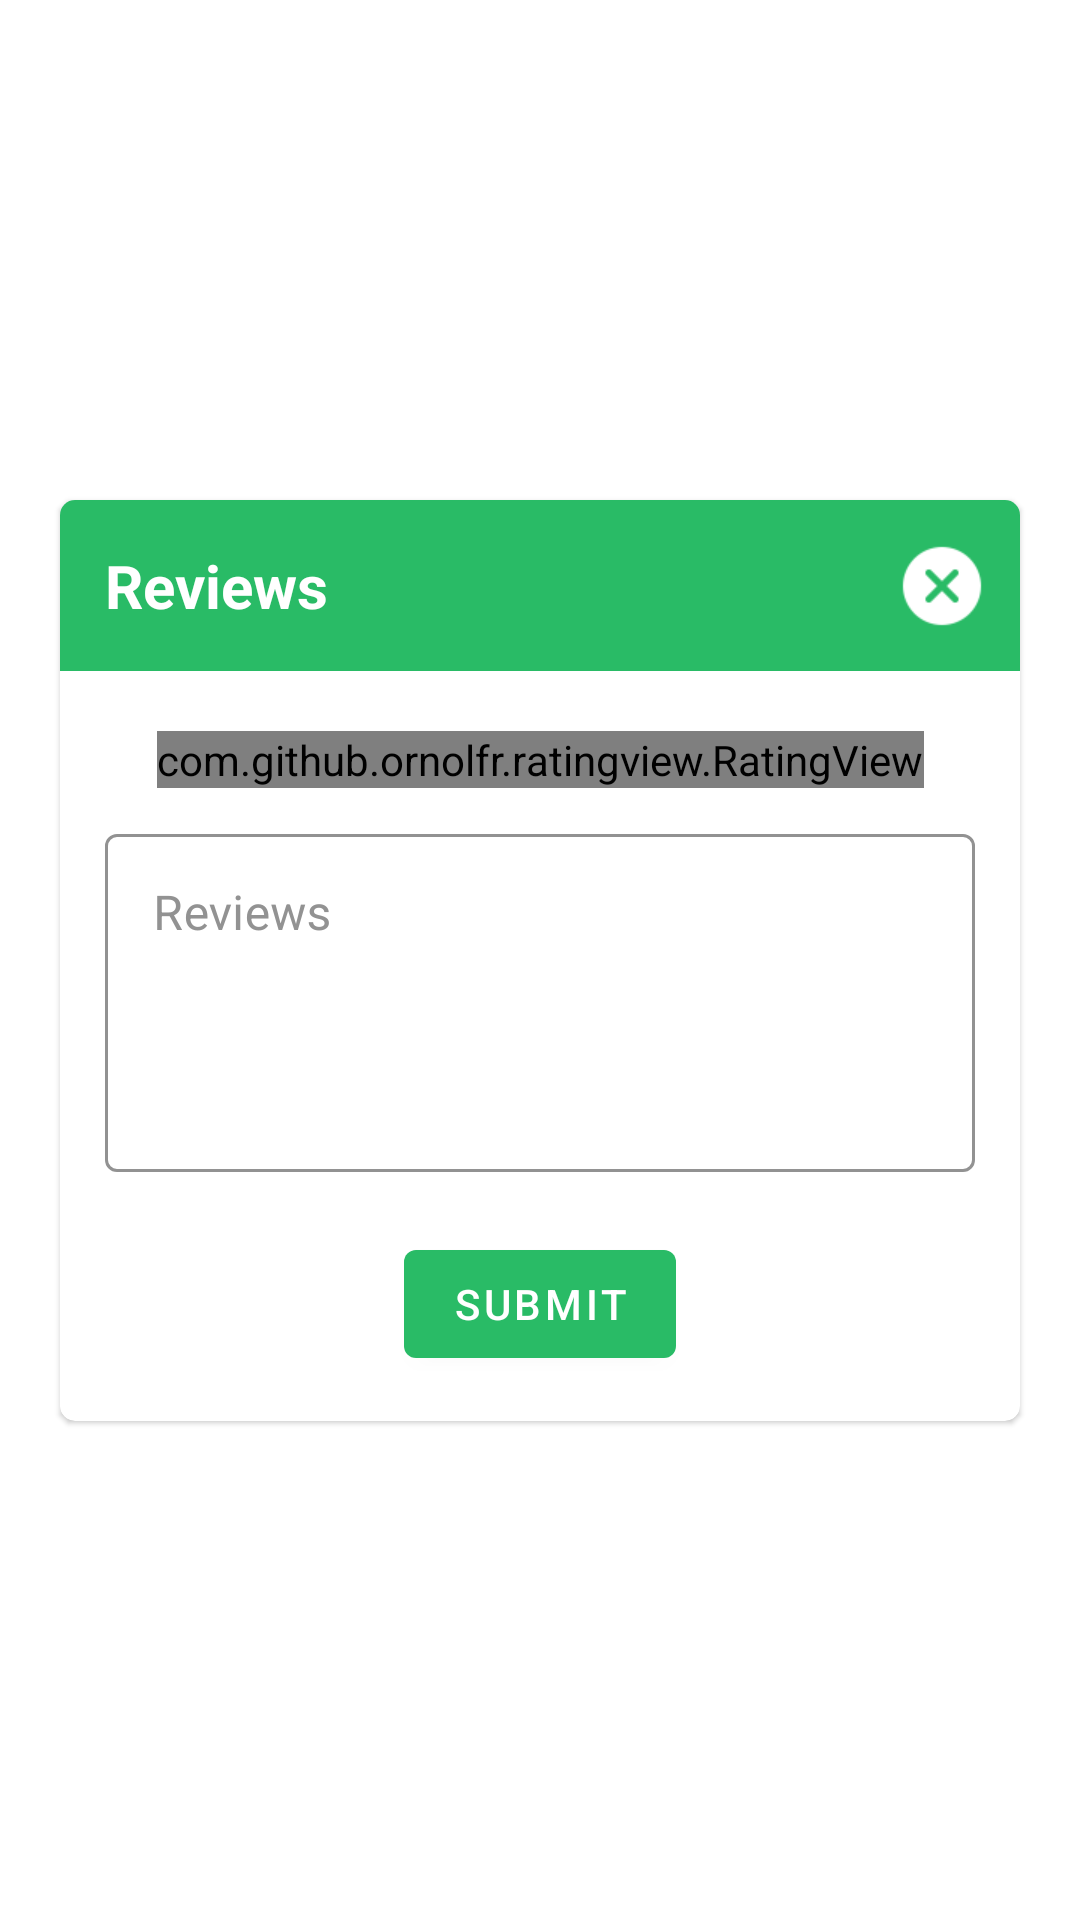

Locate icon controls on the screen. Image size 1080*1920, boxes as box(x1, y1, x2, y2).
close: box(902, 546, 982, 626)
